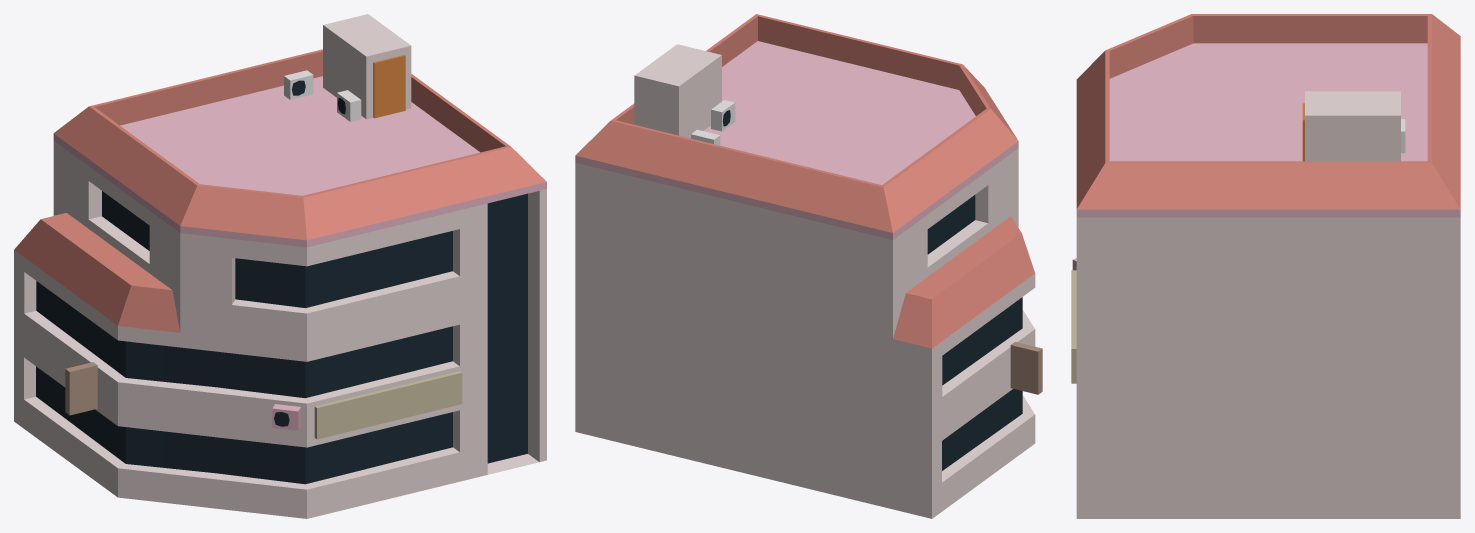
File: Building_Store03.fbx
3 views of the same model, side by side, from view 1: azimuth 30°, elevation 25°; view 2: azimuth 150°, elevation 25°; view 3: azimuth 270°, elevation 25° (orthographic). The views are drawn at different scales.
Parts seen in each view (by area): view 1: BuildingStore03; view 2: BuildingStore03; view 3: BuildingStore03.
Part boxes in pixels (x1,y1,x2,y2): BuildingStore03: (14,14,546,518); BuildingStore03: (575,14,1042,518); BuildingStore03: (1071,14,1460,518).
Bounding box in the file's own units: 509 × 399 × 436.
